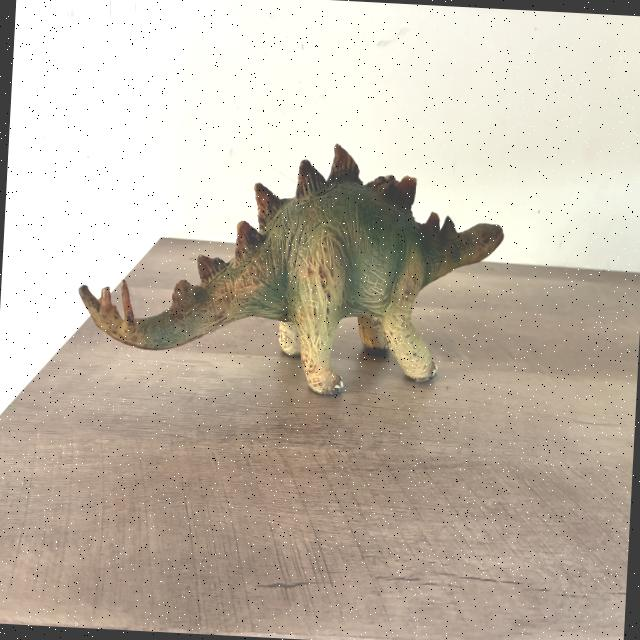dinosaur: (79, 144, 503, 395)
